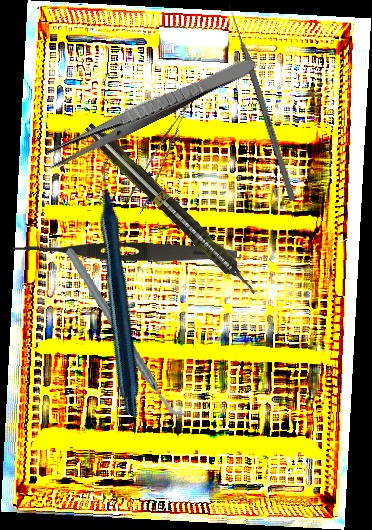Chopper: (65, 234, 187, 433)
Dressing Forceps: (40, 49, 259, 173), (11, 240, 238, 264)
Handpiece: (2, 153, 244, 419), (80, 118, 263, 301)
Pusher: (226, 3, 297, 202)
Tissue Forceps: (119, 94, 212, 215)
